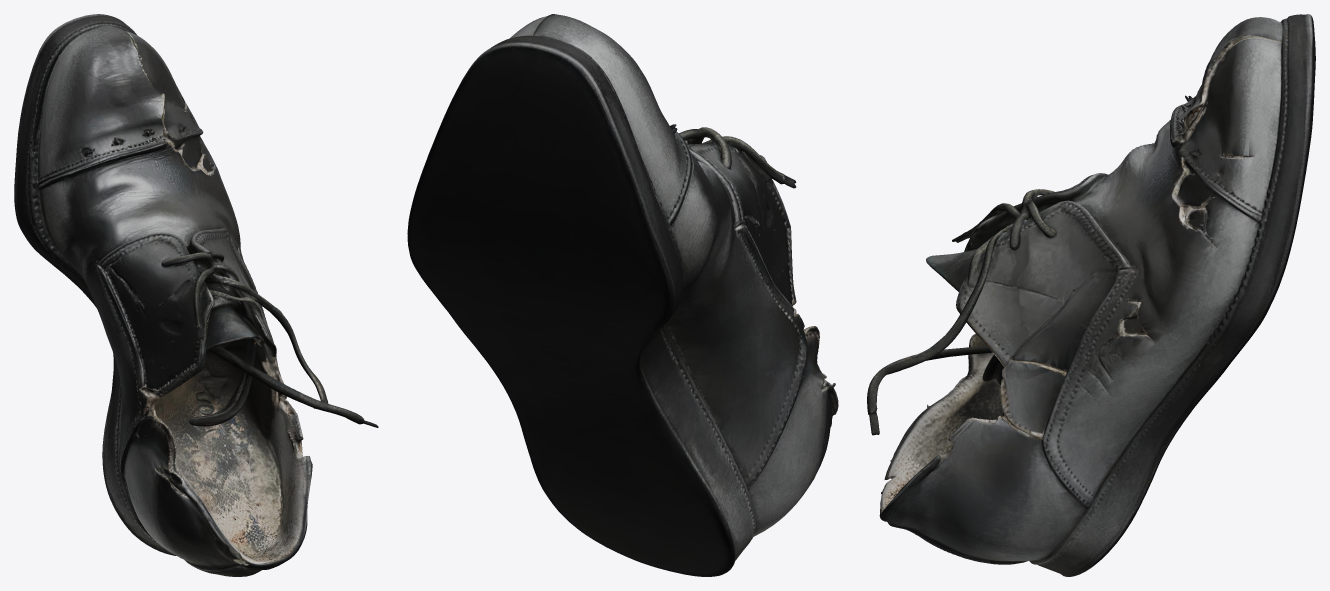
The model's file is shoe1.fbx.
3 renders of one model, left to right at view 1: azimuth 30°, elevation 25°; view 2: azimuth 150°, elevation 25°; view 3: azimuth 270°, elevation 25°, orthographic. The views are drawn at different scales.
Parts seen in each view (by area): view 1: tripo_node_751cfa8e; view 2: tripo_node_751cfa8e; view 3: tripo_node_751cfa8e.
Part boxes in pixels (<box>): tripo_node_751cfa8e: <box>14,14,378,576</box>; tripo_node_751cfa8e: <box>407,14,838,576</box>; tripo_node_751cfa8e: <box>867,14,1315,576</box>.
Size of the model in its own units: 43.08 by 73.63 by 97.9.
1 material, 1 textured.
